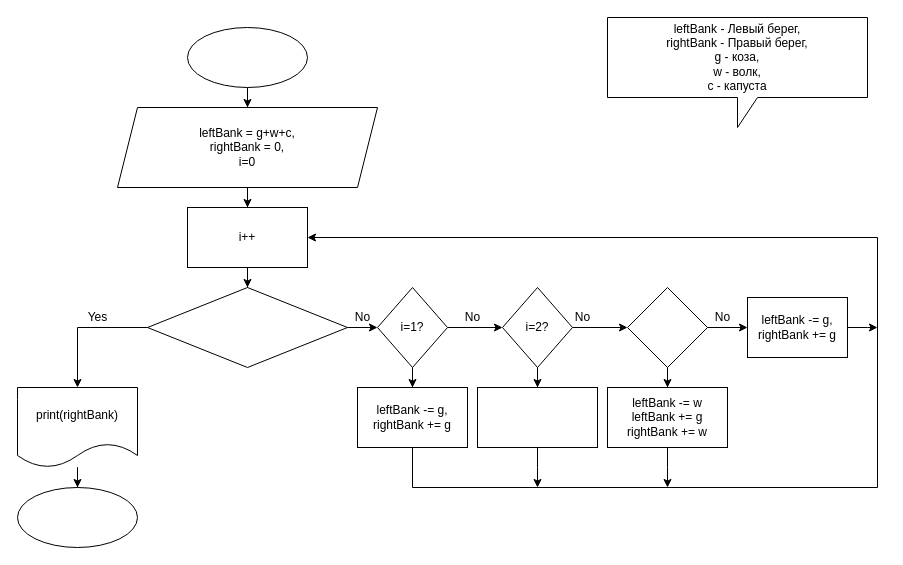
This 903x565 diagram has some shape labels left out. Here are the shapes that lost their labels. From the top down, the box of each, then its label:
(186, 26, 308, 88): Start
(146, 286, 348, 368): rightBank = g+w+c?
(626, 286, 708, 368): i=3?
(476, 386, 598, 448): leftBank -= c, rightBank -=g, rightBank +=c,
(16, 486, 138, 548): End
